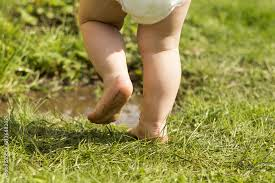child: (72, 1, 196, 150)
